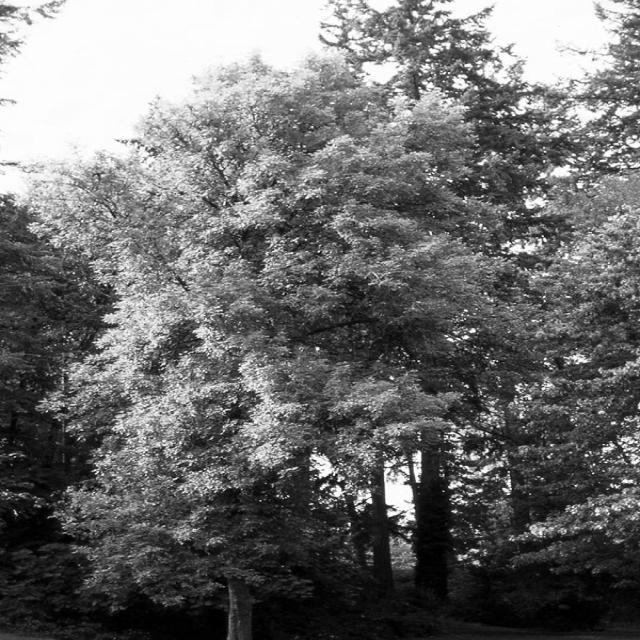Fraxinus latifolia: (30, 82, 480, 640)
